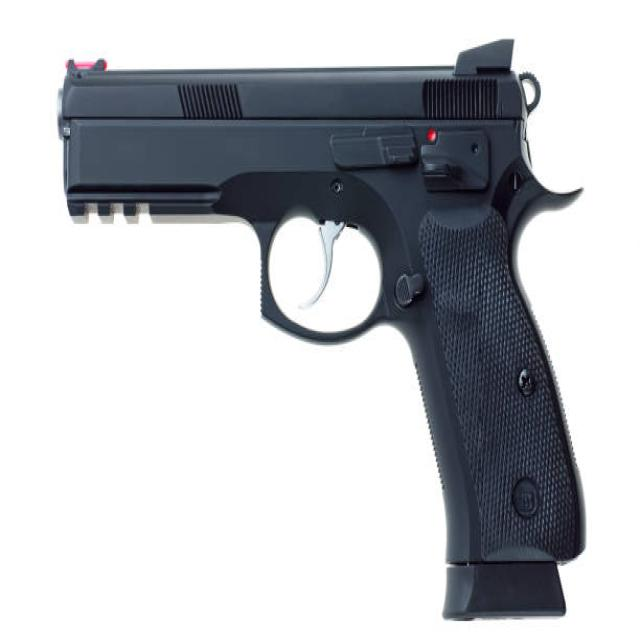pistol: (54, 27, 591, 634)
